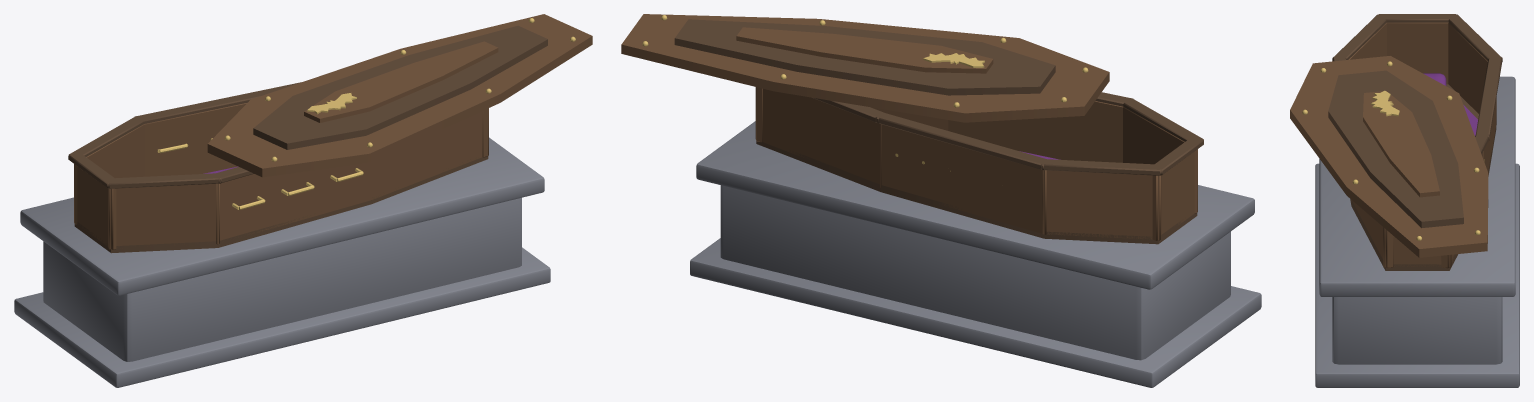
The model's file is gu_bara.fbx.
3 renders of one model, left to right at view 1: azimuth 30°, elevation 25°; view 2: azimuth 150°, elevation 25°; view 3: azimuth 270°, elevation 25°, orthographic. The views are drawn at different scales.
Visible parts, largest first — view 1: gu_bara_basalto, gu_bara_coperchio, gu_bara_noce, gu_bara_legno, gu_bara_ottone; view 2: gu_bara_basalto, gu_bara_noce, gu_bara_coperchio, gu_bara_legno; view 3: gu_bara_basalto, gu_bara_coperchio, gu_bara_noce, gu_bara_legno, gu_bara_seta.
Boxes of the visible parts, x1,y1,x2,y2 form: gu_bara_basalto: (14, 137, 550, 387); gu_bara_coperchio: (207, 14, 592, 177); gu_bara_noce: (74, 103, 488, 250); gu_bara_legno: (68, 82, 488, 253); gu_bara_ottone: (157, 138, 363, 210); gu_bara_basalto: (690, 121, 1261, 387); gu_bara_noce: (755, 87, 1197, 240); gu_bara_coperchio: (621, 14, 1109, 122); gu_bara_legno: (756, 92, 1203, 244); gu_bara_basalto: (1315, 76, 1519, 387); gu_bara_coperchio: (1290, 56, 1488, 257); gu_bara_noce: (1348, 22, 1496, 268); gu_bara_legno: (1332, 14, 1502, 270); gu_bara_seta: (1423, 73, 1477, 135).
Size of the model in its own units: 2.84 by 1.02 by 1.08.
